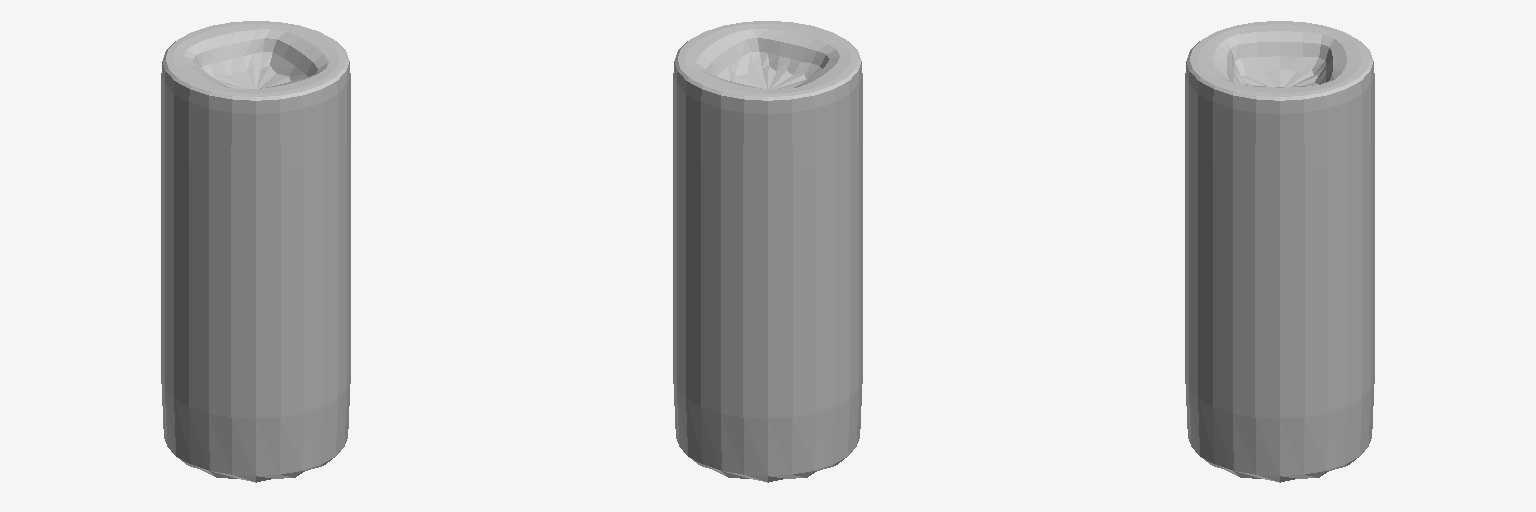
Rendered from Pillarstone2.obj.
3 views of the same model, side by side, from view 1: azimuth 30°, elevation 25°; view 2: azimuth 150°, elevation 25°; view 3: azimuth 270°, elevation 25° (orthographic).
Visible parts, largest first — view 1: Cube.005; view 2: Cube.005; view 3: Cube.005.
Boxes of the visible parts, x1,y1,x2,y2 form: Cube.005: [161, 21, 350, 482]; Cube.005: [673, 21, 862, 482]; Cube.005: [1185, 21, 1374, 482].
Bounding box in the file's own units: 0.8684 × 2 × 0.8684.